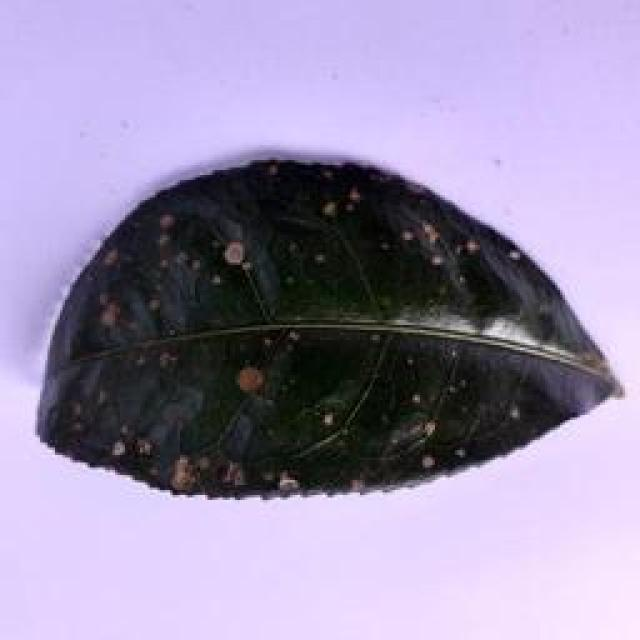Algal Leaf Spot: (33, 154, 619, 495)
